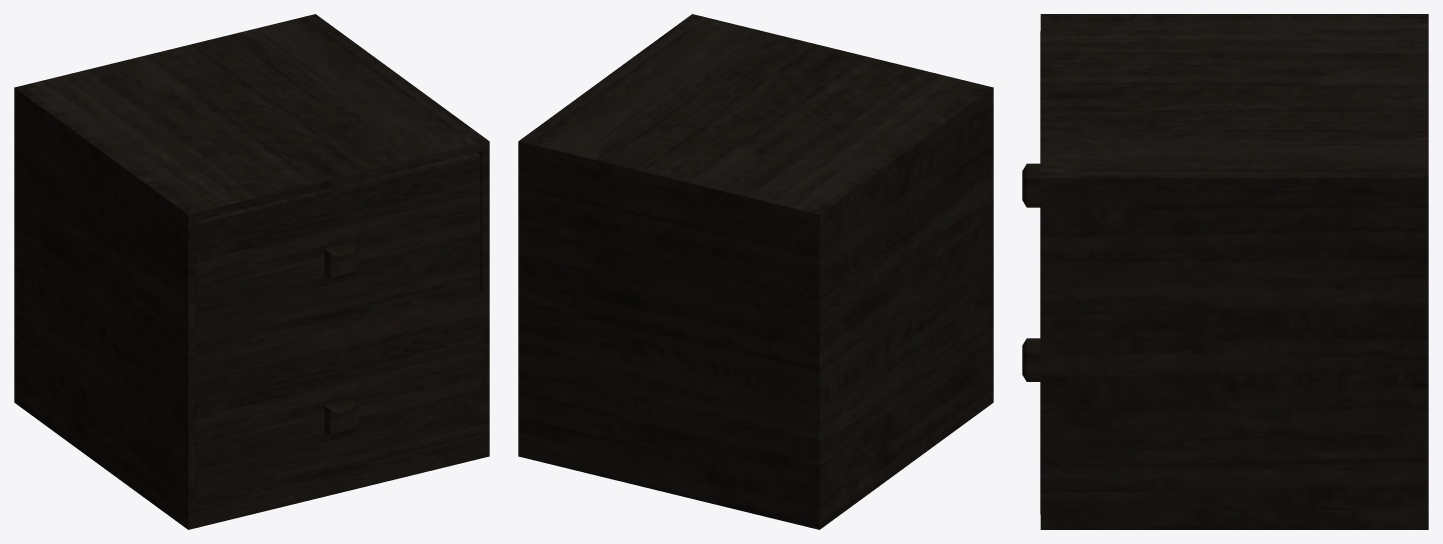
The model's file is drawer.glb.
3 views of the same model, side by side, from view 1: azimuth 30°, elevation 25°; view 2: azimuth 150°, elevation 25°; view 3: azimuth 270°, elevation 25° (orthographic). The views are drawn at different scales.
Visible parts, largest first — view 1: Cube, Куб.001, Куб; view 2: Cube; view 3: Cube, Куб.001, Куб.
Part boxes in pixels (<box>): Cube: <box>14,14,489,529</box>; Куб.001: <box>196,152,480,362</box>; Куб: <box>196,311,480,518</box>; Cube: <box>518,14,993,529</box>; Cube: <box>1040,14,1428,529</box>; Куб.001: <box>1022,31,1040,339</box>; Куб: <box>1022,338,1040,514</box>.
Size of the model in its own units: 3.44 by 3.44 by 3.6.
3 materials, 3 textured.
